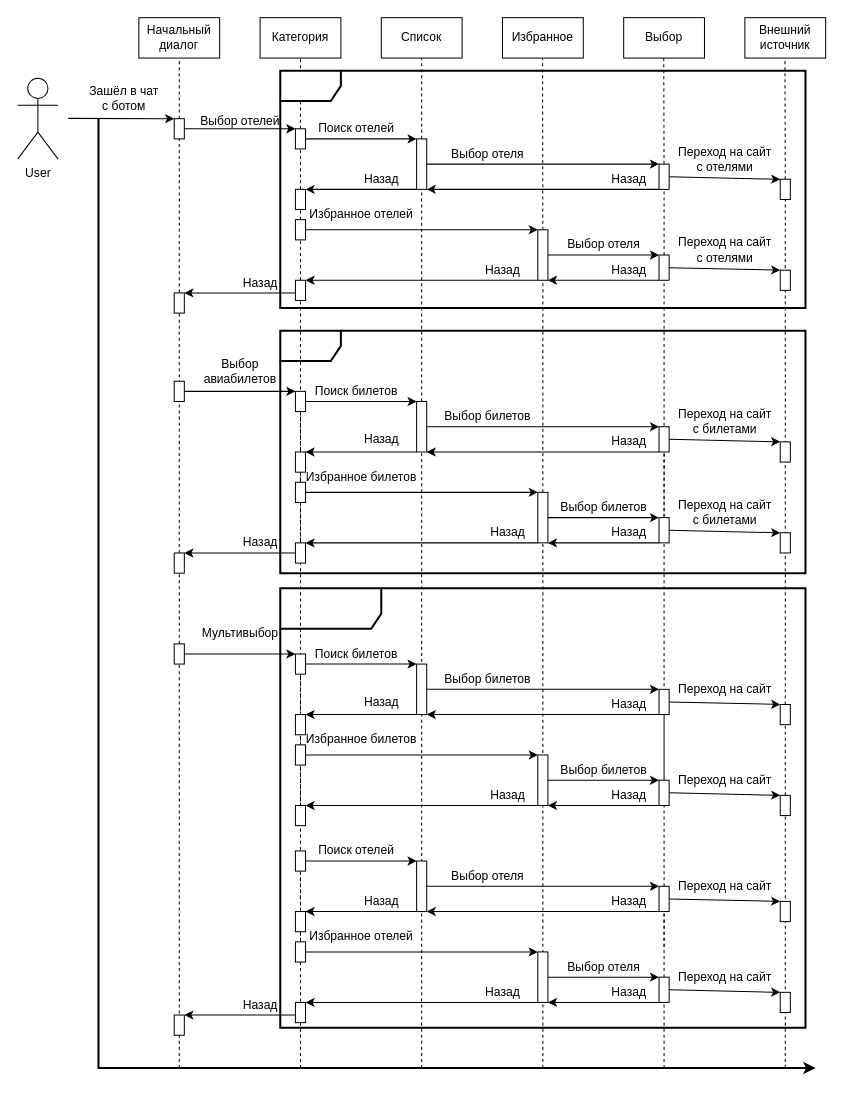
This 843x1095 diagram has some shape labels left out. Here are the shapes that lost their labels. From the top down, the box of each, then its label:
(279, 69, 806, 309): Меню отелей
(279, 329, 806, 574): Меню билетов
(279, 587, 806, 1028): Меню мультивыбора
